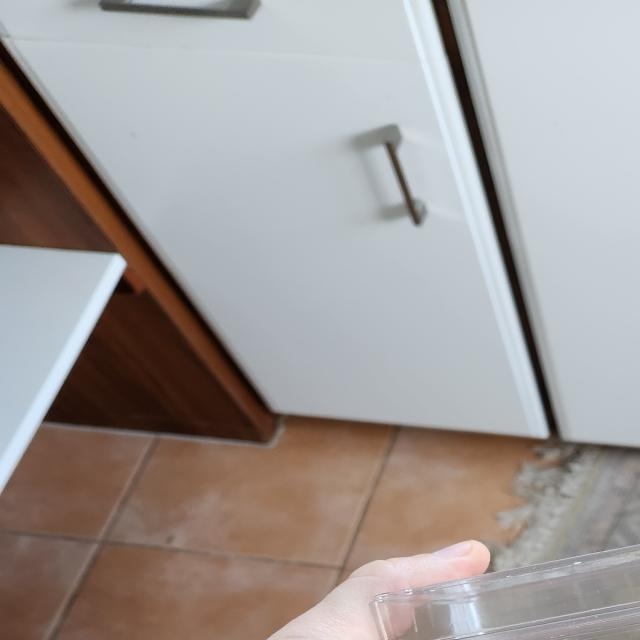tomato: (375, 528, 640, 640)
